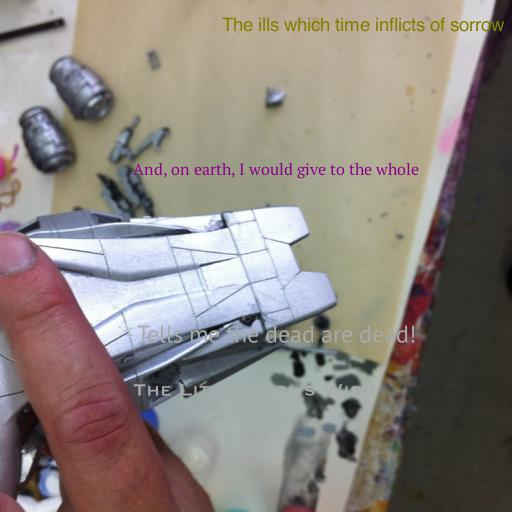Copperplate: (132, 383, 376, 396)
PT Sans: (136, 325, 416, 343)
PT Serif: (133, 162, 419, 179)
SignPainter: (222, 17, 504, 32)
